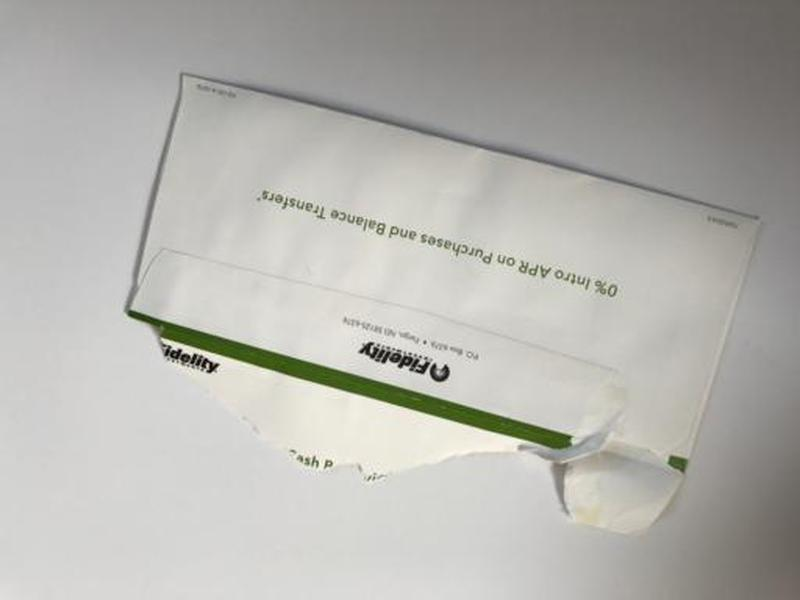paper: (122, 66, 767, 535)
